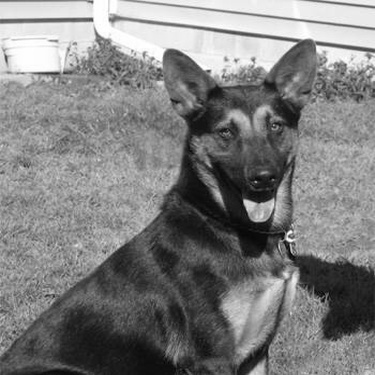dog: (1, 35, 323, 373)
